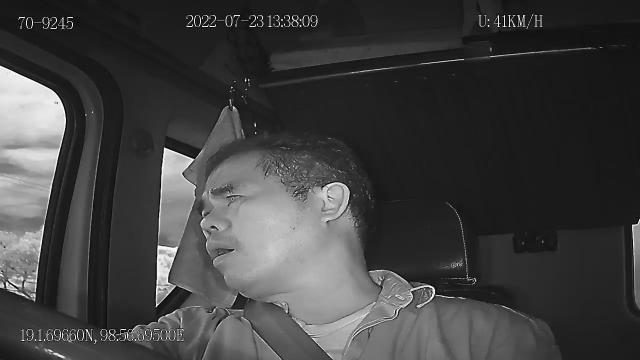Seatbelt: (243, 296, 335, 360)
